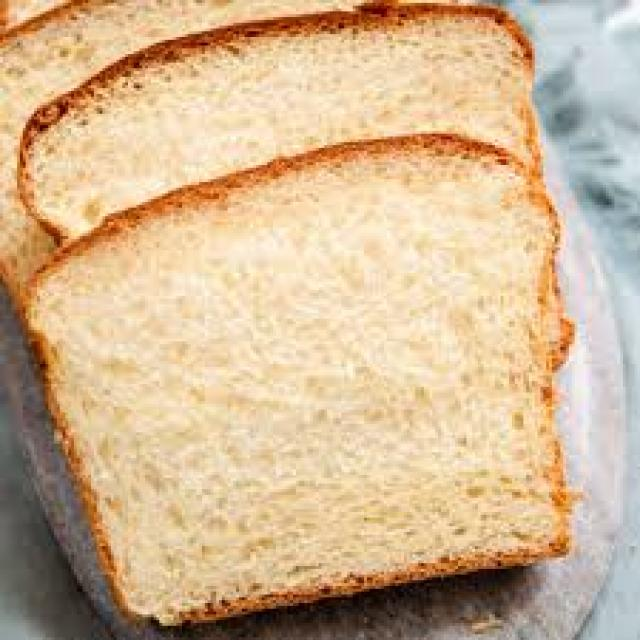organic waste: (17, 134, 569, 623), (14, 0, 540, 247), (0, 0, 370, 307)
